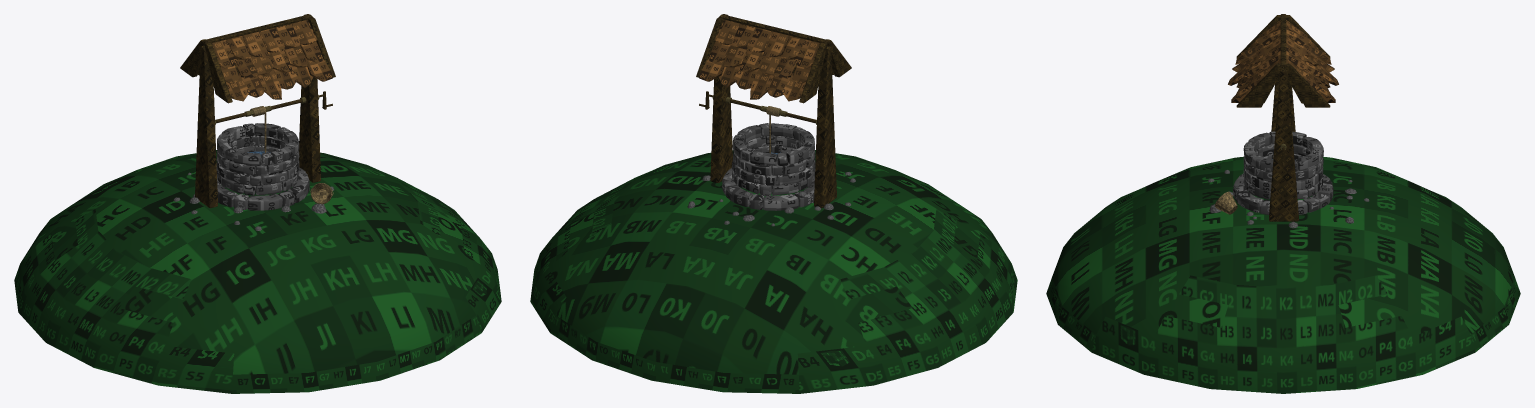
Rendered from Well_Texturing.fbx.
The picture shows the model from 3 angles, left to right: view 1: azimuth 30°, elevation 25°; view 2: azimuth 150°, elevation 25°; view 3: azimuth 270°, elevation 25°; orthographic projection. The views are drawn at different scales.
Parts seen in each view (by area): view 1: pSphere1, pCube18, pCube44, pCube25, pCube20, pCube23, pCube45; view 2: pSphere1, pCube18, pCube44, pCube25, pCube20, pCube23, pCube45; view 3: pSphere1, pCube18, pCube44 (×2), pCube20, pCube22, pCube25, pCube23.
Boxes of the visible parts, x1,y1,x2,y2 form: pSphere1: [14, 150, 501, 393]; pCube18: [216, 123, 309, 210]; pCube44: [211, 20, 332, 101]; pCube25: [195, 45, 217, 208]; pCube20: [299, 77, 320, 182]; pCube23: [180, 39, 232, 103]; pCube45: [203, 14, 312, 43]; pSphere1: [530, 150, 1017, 393]; pCube18: [722, 123, 815, 210]; pCube44: [699, 20, 820, 101]; pCube25: [814, 45, 836, 208]; pCube20: [710, 77, 732, 182]; pCube23: [799, 39, 851, 103]; pCube45: [719, 14, 828, 43]; pSphere1: [1046, 156, 1520, 393]; pCube18: [1233, 131, 1333, 214]; pCube44 (×2): [1228, 20, 1338, 102]; pCube20: [1269, 67, 1298, 221]; pCube22: [1236, 63, 1330, 107]; pCube25: [1271, 76, 1295, 131]; pCube23: [1236, 15, 1330, 58].
Size of the model in its own units: 17.88 by 10.59 by 17.88.
